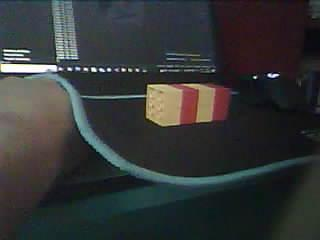lego: (146, 82, 230, 126)
